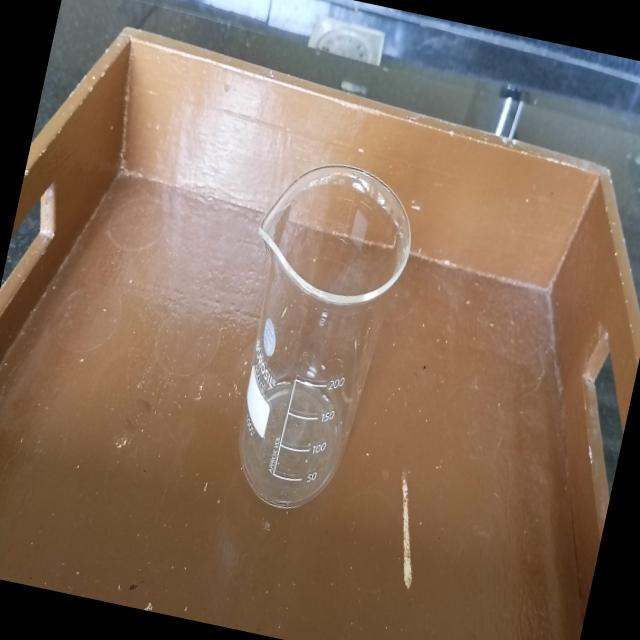beaker: (198, 144, 429, 528)
